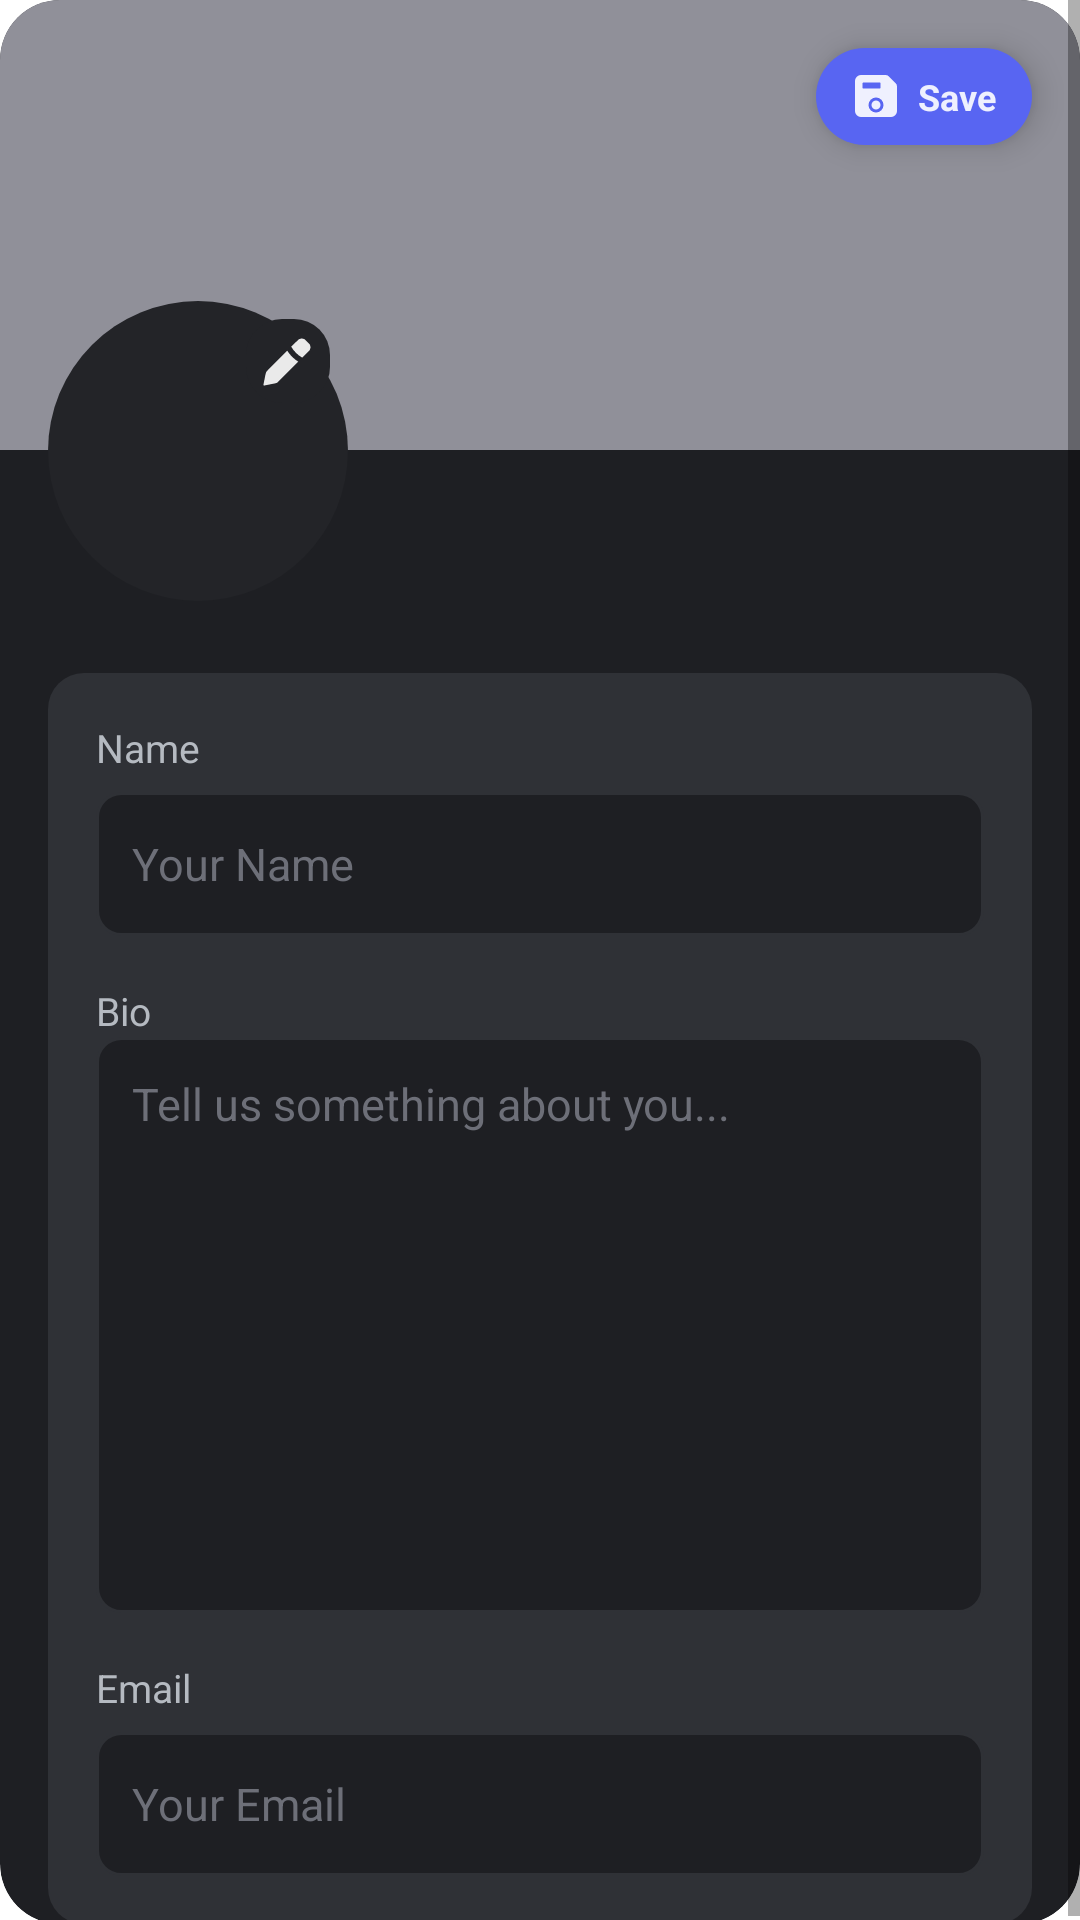

Icons on this 1080×1920 Android screen, each with the point to tap as [x,y]:
edit: [287,362]
